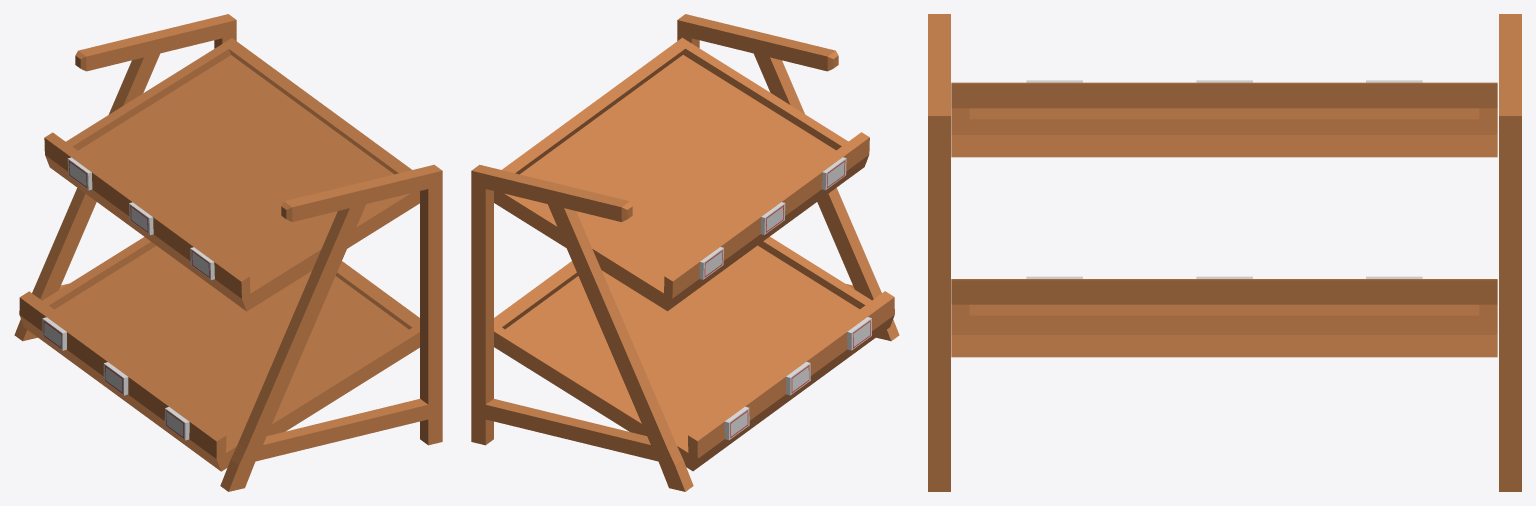
File: FrameForDrawers.fbx
3 views of the same model, side by side, from view 1: azimuth 30°, elevation 25°; view 2: azimuth 150°, elevation 25°; view 3: azimuth 270°, elevation 25° (orthographic). The views are drawn at different scales.
Parts seen in each view (by area): view 1: FrameForDrawers; view 2: FrameForDrawers; view 3: FrameForDrawers.
Boxes of the visible parts, <box> form: FrameForDrawers: <box>14,14,442,491</box>; FrameForDrawers: <box>471,14,899,491</box>; FrameForDrawers: <box>928,14,1521,491</box>.
Size of the model in its own units: 0.7836 by 1.3 by 0.9115.
